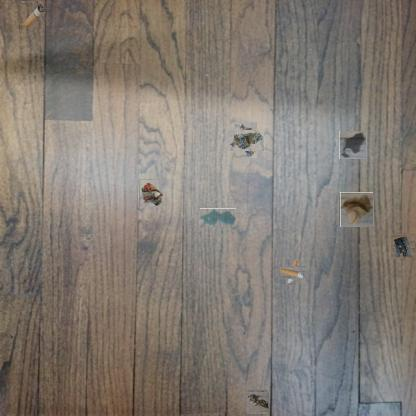dirty: (340, 193, 373, 226), (232, 125, 260, 155), (138, 179, 164, 207), (19, 2, 45, 30), (391, 234, 415, 258), (246, 391, 268, 413), (283, 262, 303, 282)
liquid: (339, 132, 367, 159), (200, 208, 236, 227)
